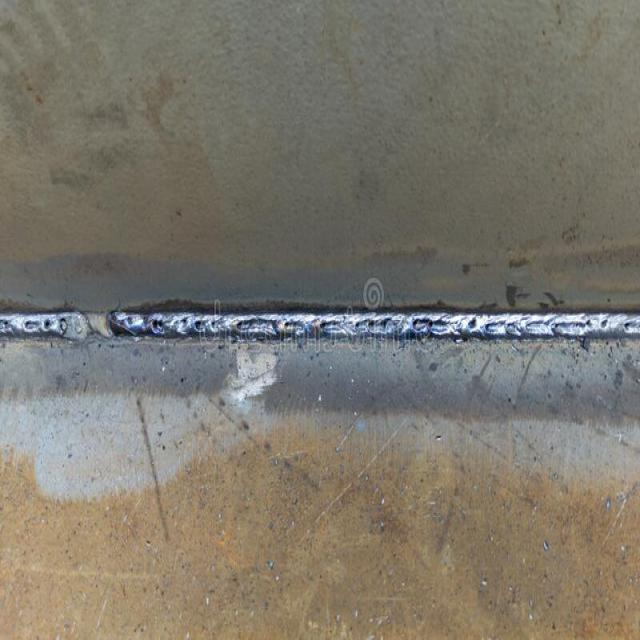Bad Welding: (1, 303, 640, 348)
Porosity: (23, 318, 67, 336), (354, 317, 388, 333), (318, 316, 338, 337), (179, 312, 201, 330), (234, 318, 253, 338), (413, 315, 432, 332), (149, 314, 164, 330)
